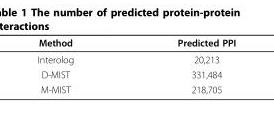table: (36, 36, 235, 94)
table column: (124, 36, 235, 94), (36, 36, 124, 94)
table column header: (36, 36, 235, 50)
table row: (36, 50, 235, 66), (36, 66, 235, 81), (36, 36, 235, 50), (36, 81, 235, 94)
